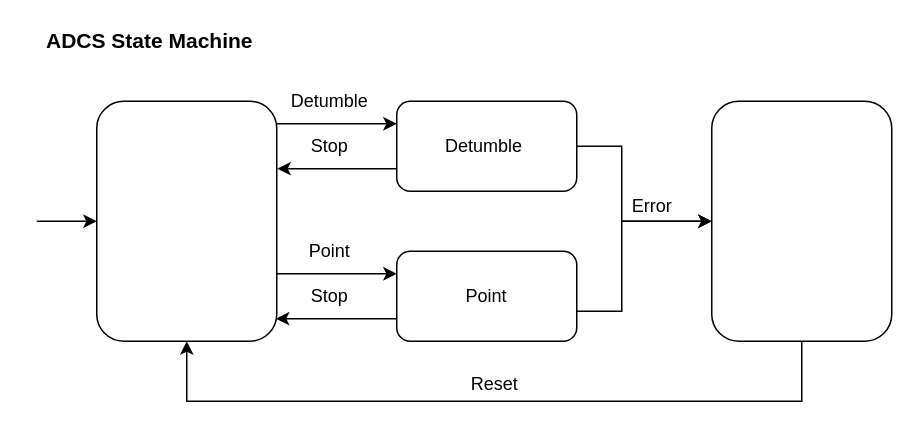
This 918x440 diagram has some shape labels left out. The box of each missing label's shape, as (x1, y1, x2, y2) in pixels:
Failed: (710, 100, 892, 341)
Sleep: (95, 100, 277, 341)
